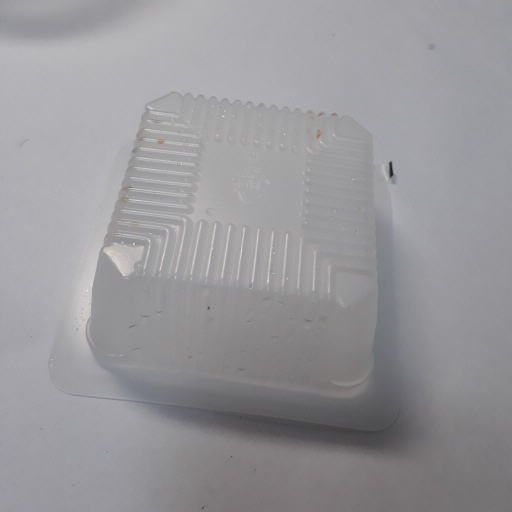Plastic_4: (50, 92, 410, 435)
